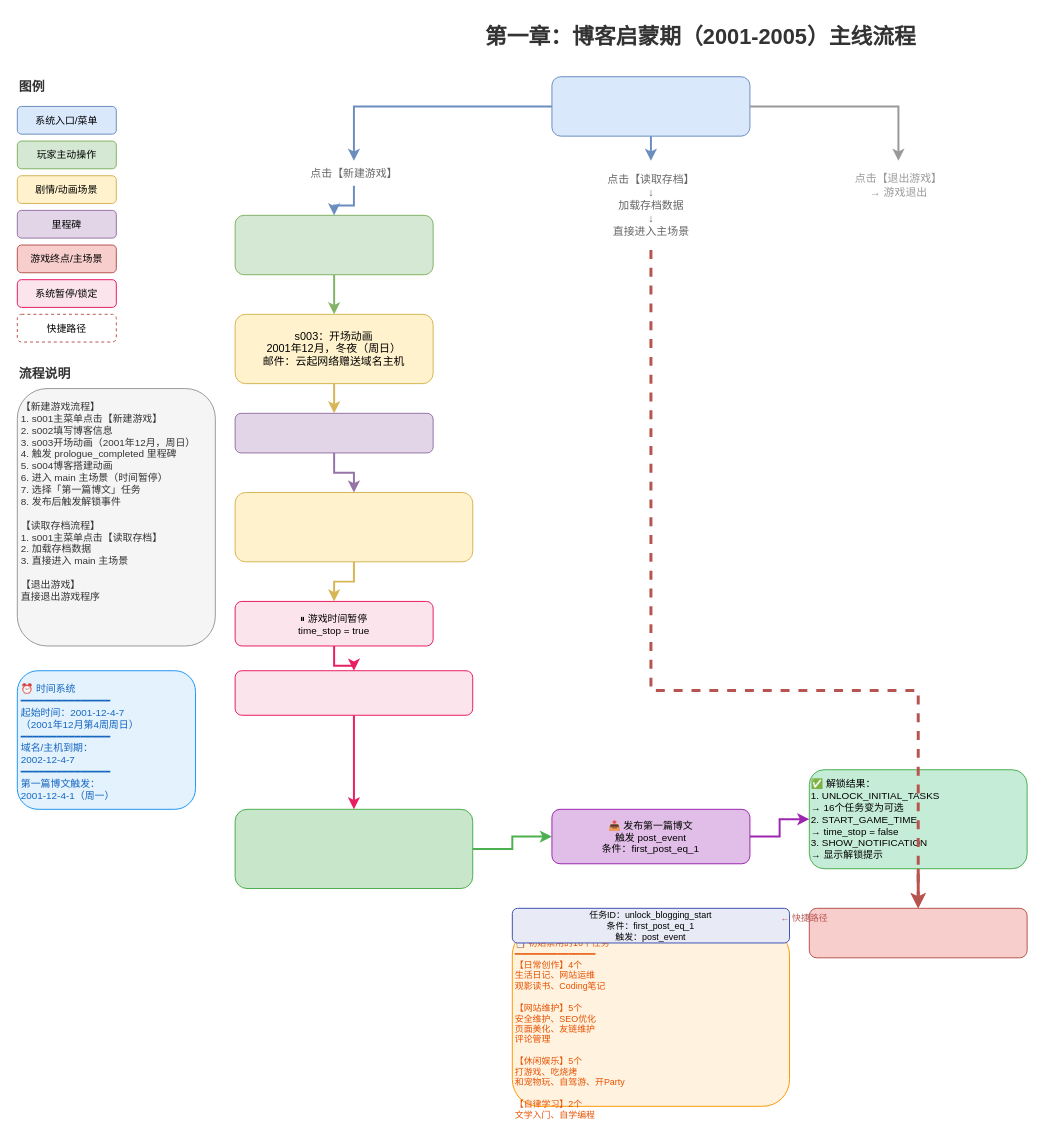
The diagram is 1044 pixels wide and 1138 high, and some of its shapes have lost their labels. The centre of each missing label's shape, as x and y in pixels:
main：游戏主场景 选择「第一篇博文」任务 时间：2001-12-4-1（周一） 体力-20: (x=353, y=848)
s001：主菜单 功能：新建游戏 | 读取存档 | 退出: (x=650, y=106)
s002：创建博客 填写：博客名、作者、域名: (x=333, y=244)
s004：博客搭建动画 博客正式上线提示 域名+主机：2001-12-4-7 至 2002-12-4-7: (x=353, y=527)
✓ prologue_completed 开场动画完成: (x=333, y=432)
🎮 游戏正式开始 博客的运营，正式开始！: (x=917, y=932)
🔒 16个日常任务初始禁用 （生活日记、网站运维、安全维护等）: (x=353, y=692)
